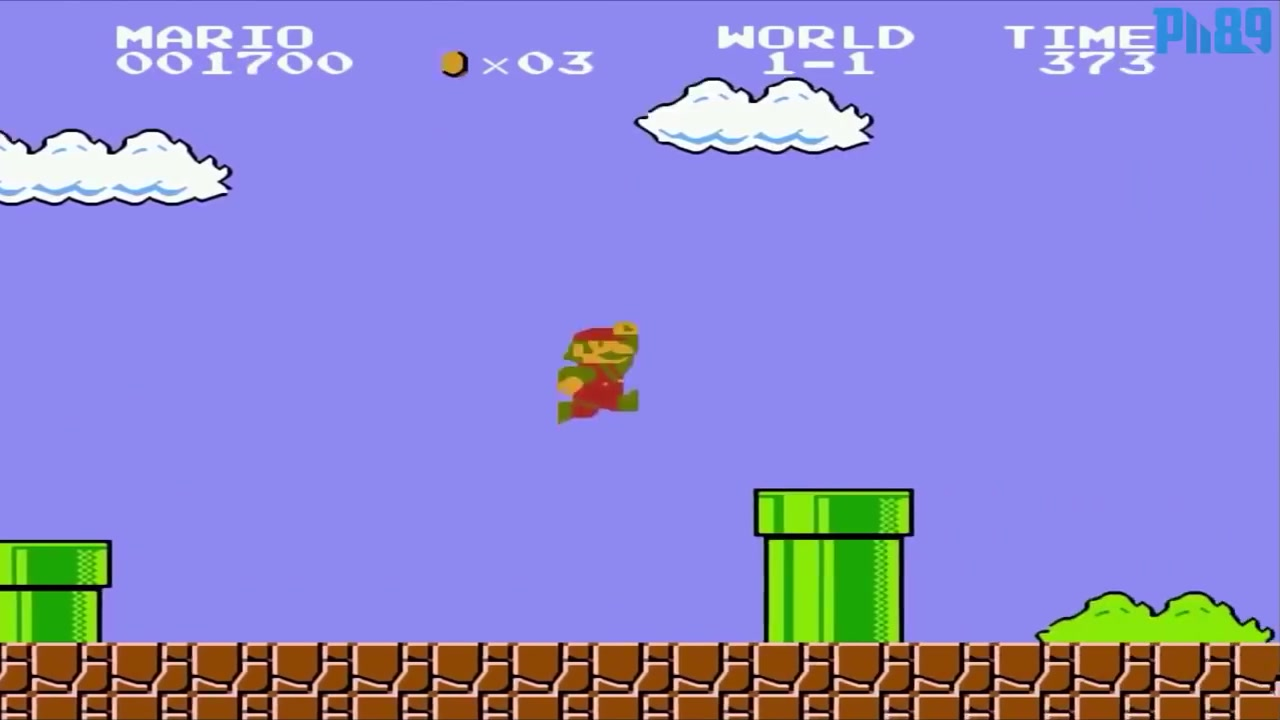mario: (550, 317, 646, 432)
